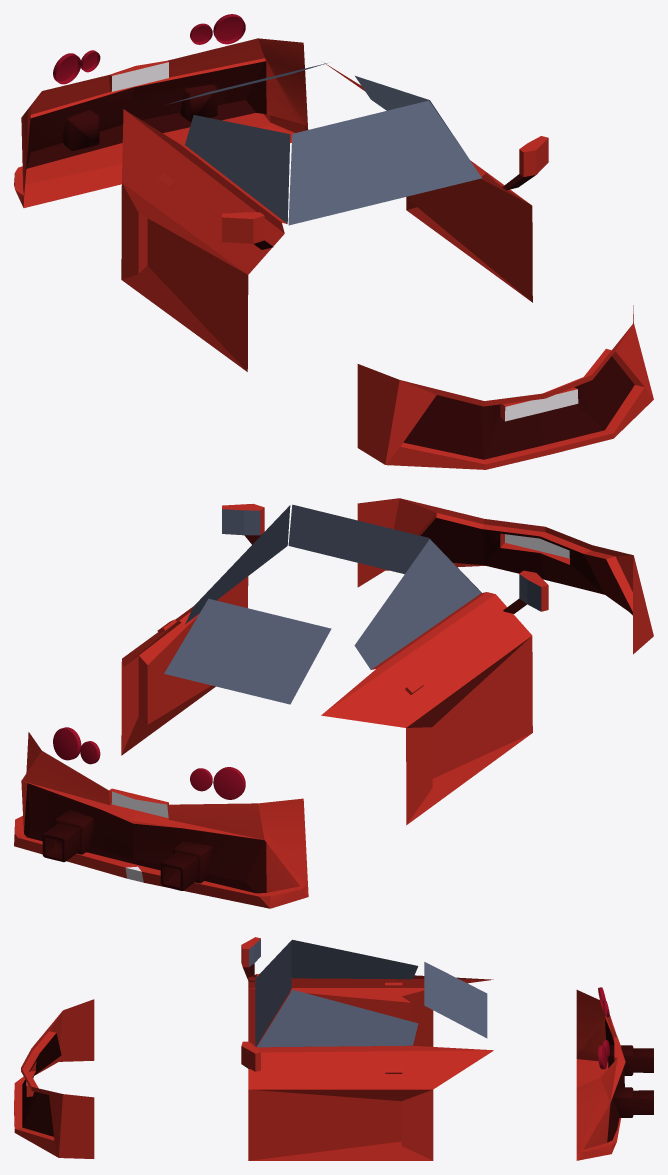
The model's file is car2Bumper3.fbx.
3 renders of one model, top to bottom at view 1: azimuth 30°, elevation 25°; view 2: azimuth 150°, elevation 25°; view 3: azimuth 270°, elevation 25°, orthographic. The views are drawn at different scales.
Visible parts, largest first — view 1: bumper3.001; view 2: bumper3.001; view 3: bumper3.001.
Boxes of the visible parts, x1=… form: bumper3.001: x1=14, y1=14, x2=653, y2=469; bumper3.001: x1=14, y1=498, x2=653, y2=908; bumper3.001: x1=14, y1=937, x2=653, y2=1160.
Size of the model in its own units: 2.63 by 1.53 by 6.11.
